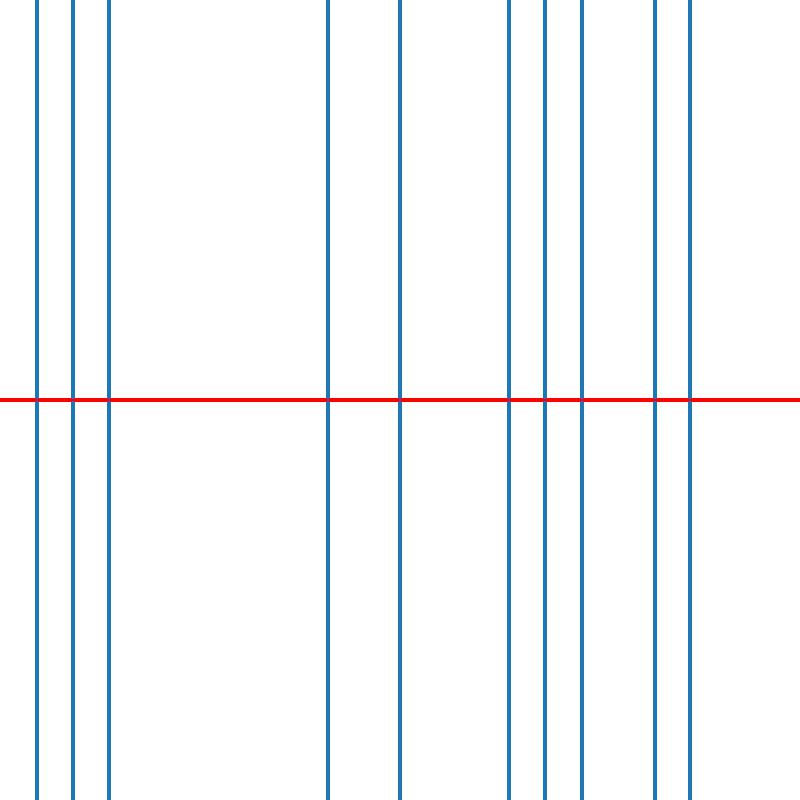root: (541, 396, 549, 404), (650, 396, 658, 404), (32, 396, 40, 404), (69, 396, 76, 404), (505, 396, 512, 404), (578, 396, 585, 404), (396, 396, 403, 404), (105, 396, 112, 404), (687, 396, 694, 404), (323, 396, 330, 404)
